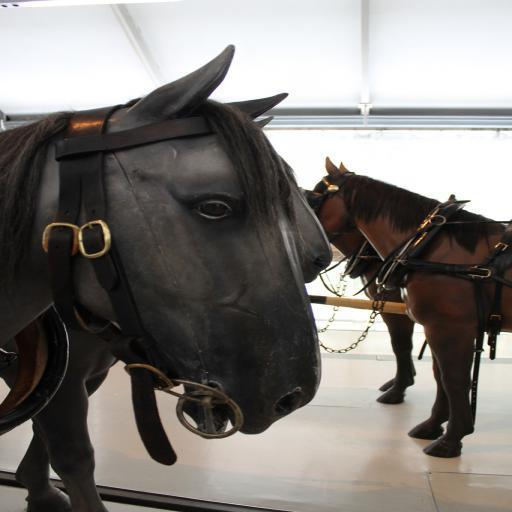horse: (0, 46, 320, 512), (306, 154, 512, 458)
